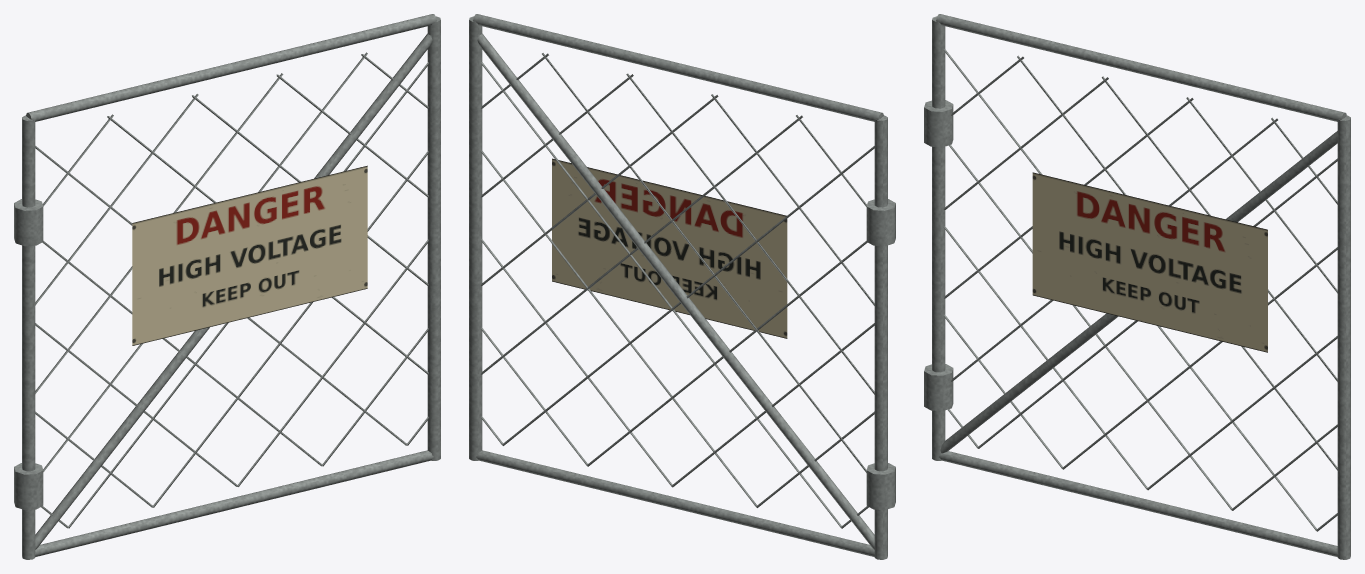
File: SM_Substation_Gate_L_LOD2.fbx
The picture shows the model from 3 angles, left to right: view 1: azimuth 30°, elevation 25°; view 2: azimuth 150°, elevation 25°; view 3: azimuth 330°, elevation 25°; orthographic projection.
Visible parts, largest first — view 1: SM_Substation_Gate_L_LOD2; view 2: SM_Substation_Gate_L_LOD2; view 3: SM_Substation_Gate_L_LOD2.
Boxes of the visible parts, box(x1,y1,x2,y2) form: SM_Substation_Gate_L_LOD2: box(14, 14, 440, 559); SM_Substation_Gate_L_LOD2: box(469, 14, 895, 559); SM_Substation_Gate_L_LOD2: box(924, 14, 1350, 559).
Size of the model in its own units: 2.26 by 0.14 by 2.26.
